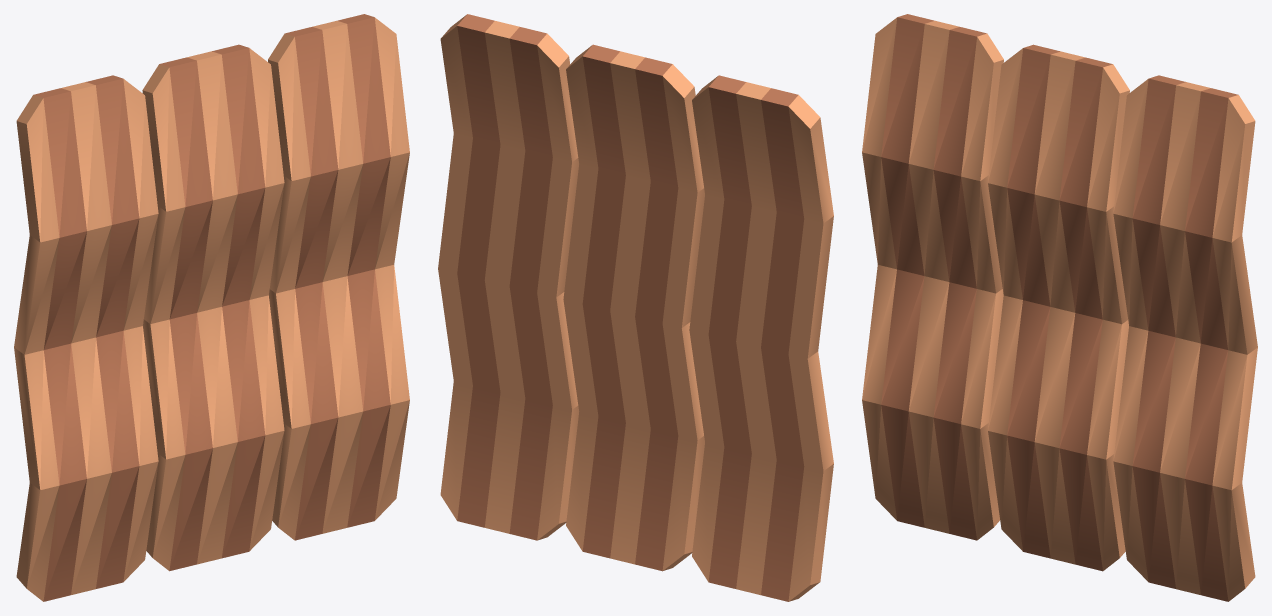
Rendered from bacon_1.fbx.
3 renders of one model, left to right at view 1: azimuth 30°, elevation 25°; view 2: azimuth 150°, elevation 25°; view 3: azimuth 330°, elevation 25°, orthographic.
Parts seen in each view (by area): view 1: bacon.002; view 2: bacon.002; view 3: bacon.002.
Part boxes in pixels (x1=…): bacon.002: x1=14, y1=14, x2=409, y2=601; bacon.002: x1=438, y1=14, x2=833, y2=601; bacon.002: x1=862, y1=14, x2=1257, y2=601.
Bounding box in the file's own units: 4186 × 5453 × 515.
